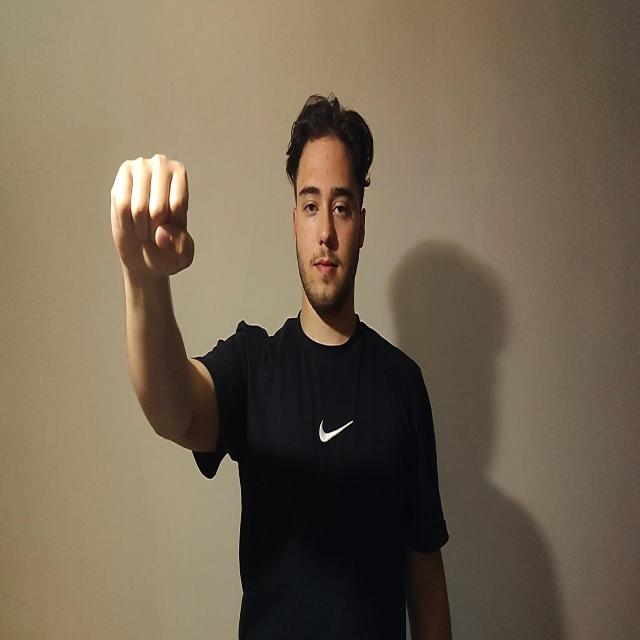yes: (110, 152, 195, 279)
